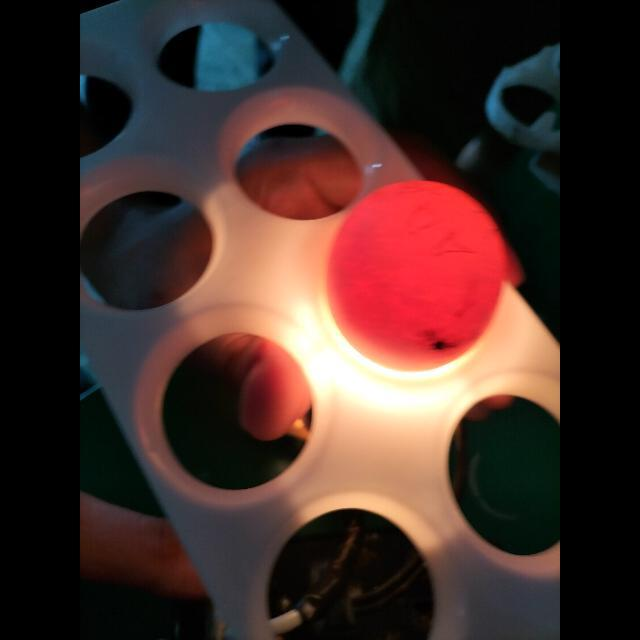Infertile: (322, 176, 502, 360)
